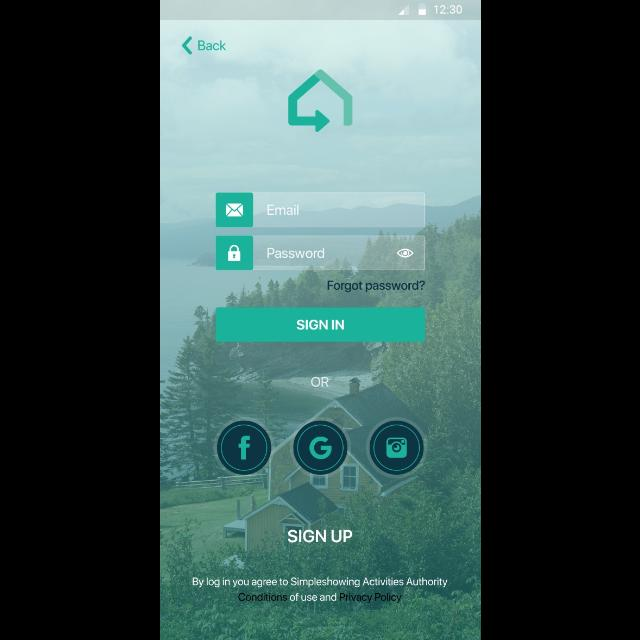backgroundimage: (160, 21, 480, 640)
icon: (217, 421, 271, 475), (293, 421, 347, 475), (369, 421, 423, 475), (227, 245, 240, 261), (225, 204, 242, 216), (181, 37, 191, 55), (397, 248, 413, 258)
image: (288, 70, 352, 132)
input: (216, 192, 424, 228), (216, 236, 424, 270)
text: (192, 577, 446, 603), (326, 281, 424, 293), (286, 529, 352, 543), (268, 248, 324, 258), (266, 205, 298, 215), (198, 41, 226, 51), (310, 377, 328, 388)
textbutton: (216, 308, 424, 342)
uppertaskbar: (160, 1, 480, 21)
